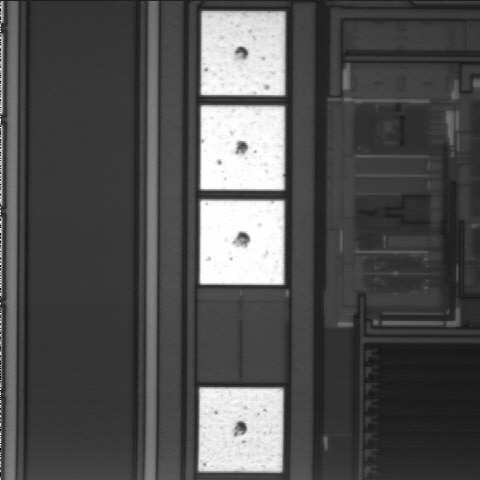pad: (200, 105, 285, 190), (200, 200, 284, 285), (198, 388, 283, 472), (201, 11, 285, 95)
